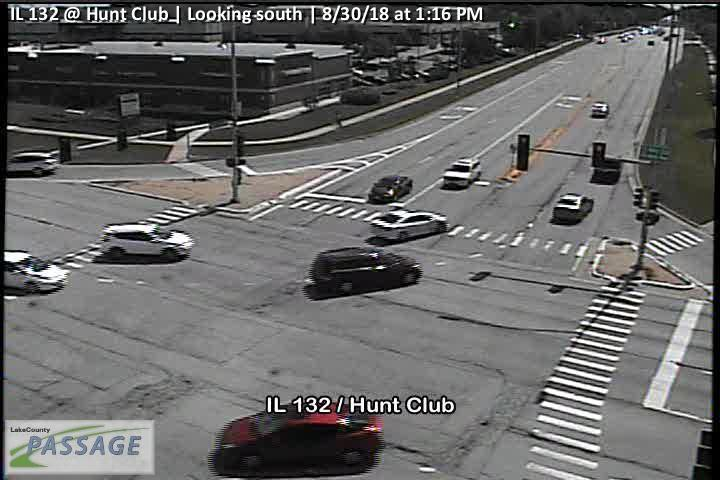SUV: (311, 246, 423, 294), (102, 224, 192, 259), (4, 251, 70, 294), (6, 149, 58, 176), (443, 156, 482, 188), (592, 102, 610, 117)
Sedan: (210, 404, 384, 479), (371, 208, 448, 241), (368, 174, 413, 203), (554, 191, 594, 218)
